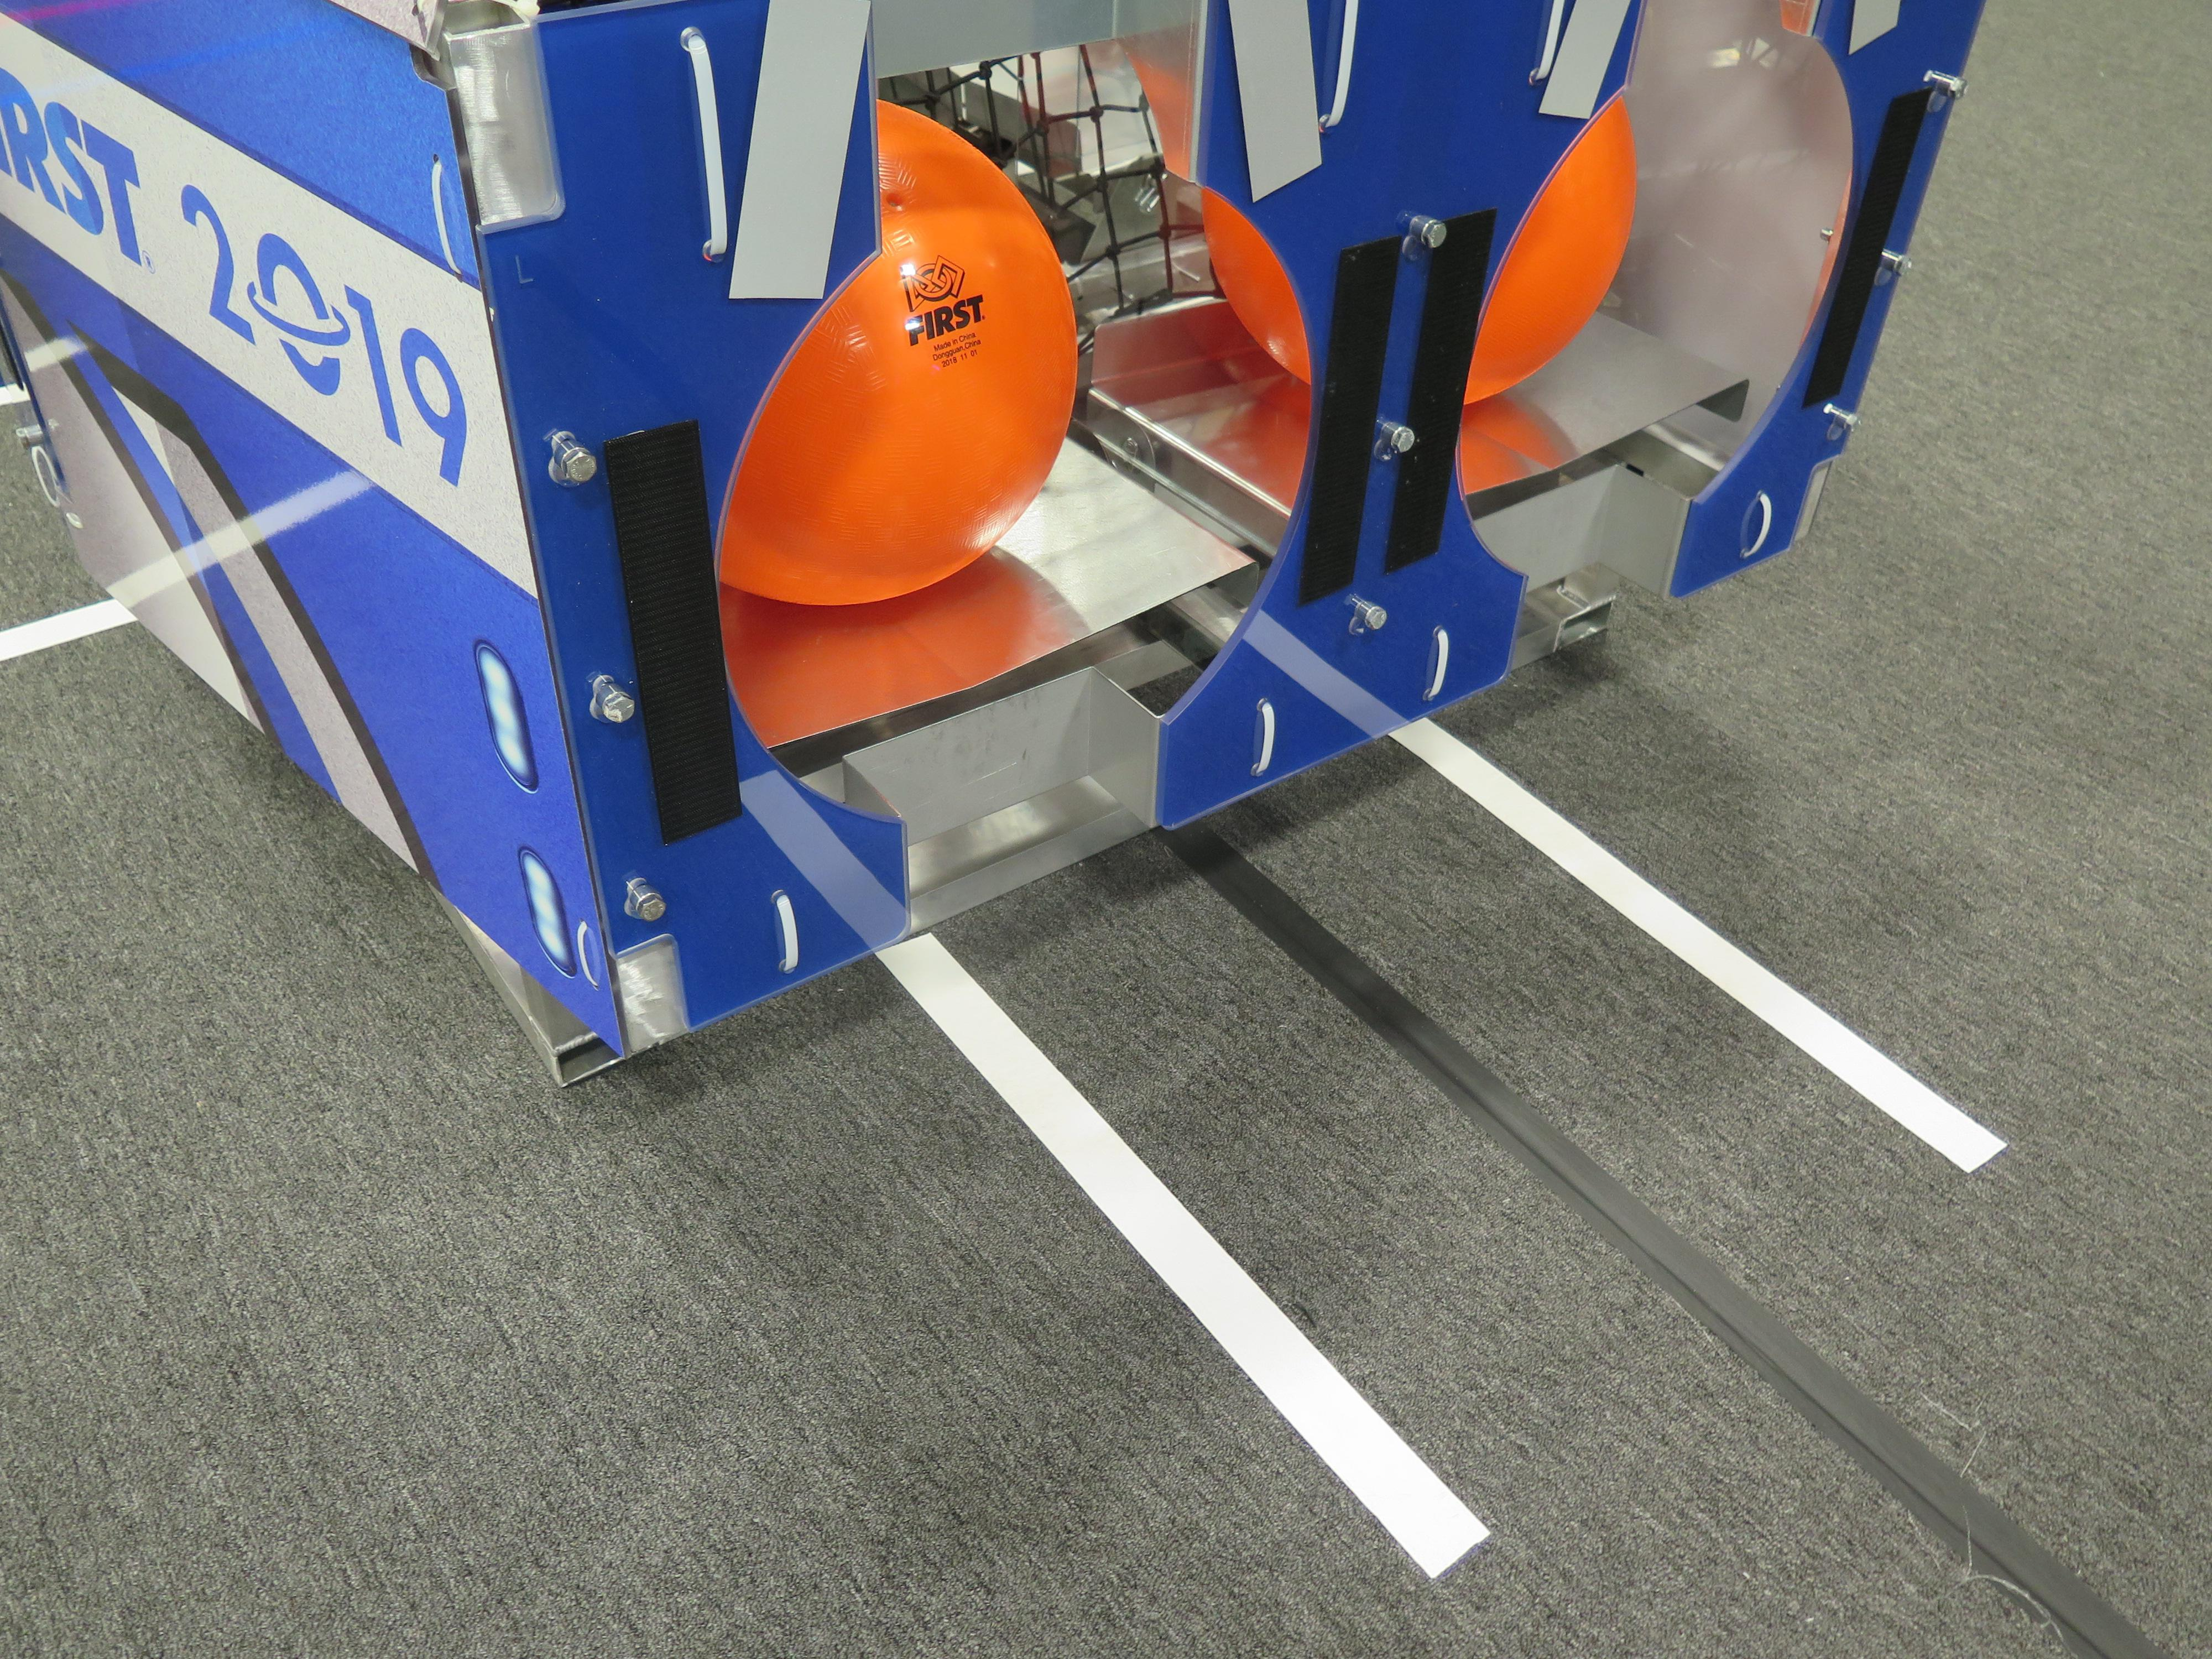Ball: (716, 89, 1076, 606), (1200, 87, 1641, 403)
Tape: (726, 0, 874, 303), (1219, 0, 1327, 204), (1534, 0, 1634, 120), (1841, 0, 1900, 59)
